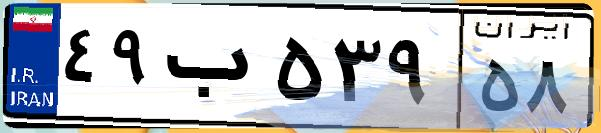3: (330, 28, 385, 110)
4: (57, 26, 110, 100)
5: (270, 28, 330, 110), (475, 38, 525, 113)
8: (525, 38, 570, 115)
9: (385, 28, 445, 110), (110, 28, 158, 98)
ب: (158, 20, 270, 120)
